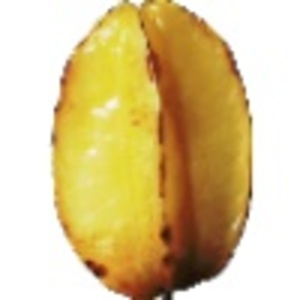carambola: (49, 1, 256, 300)
